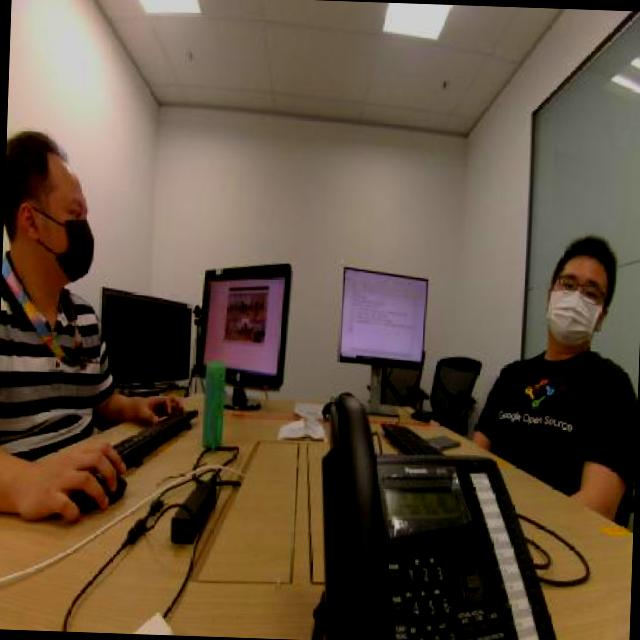Person: (1, 102, 114, 440), (520, 188, 632, 480)
